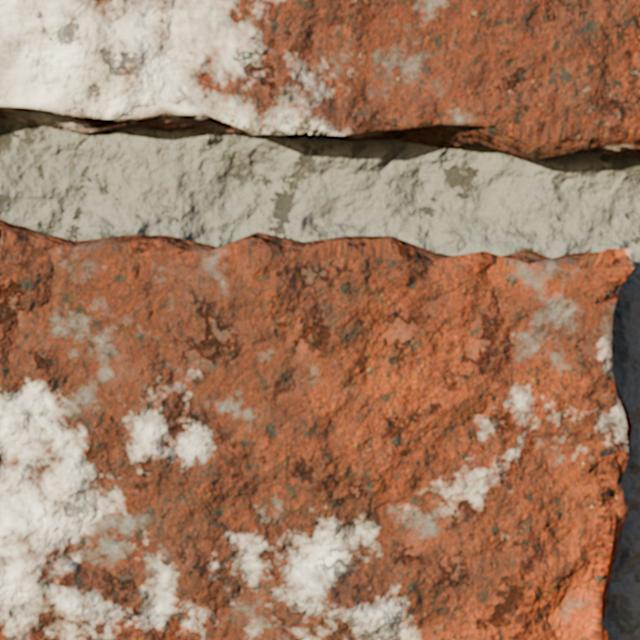crack: (0, 220, 634, 639), (0, 0, 639, 159)
